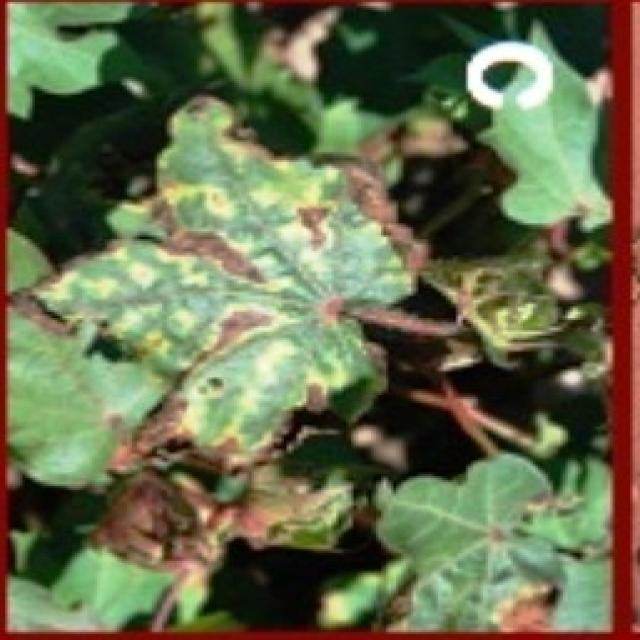Fusarium Wilt: (56, 64, 457, 564)
